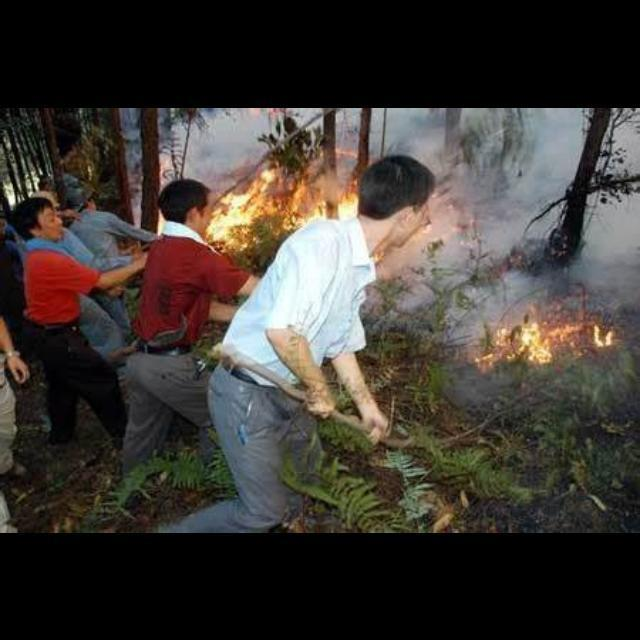Fire: (204, 146, 358, 254), (474, 316, 616, 372)
Smoke: (128, 109, 640, 407)
